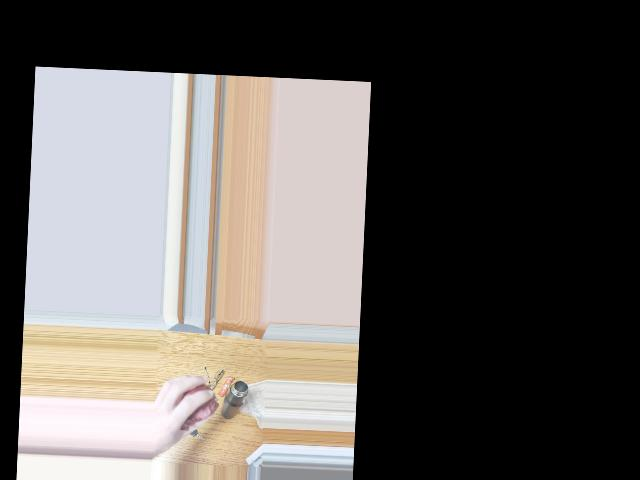onion: (179, 383, 213, 420)
